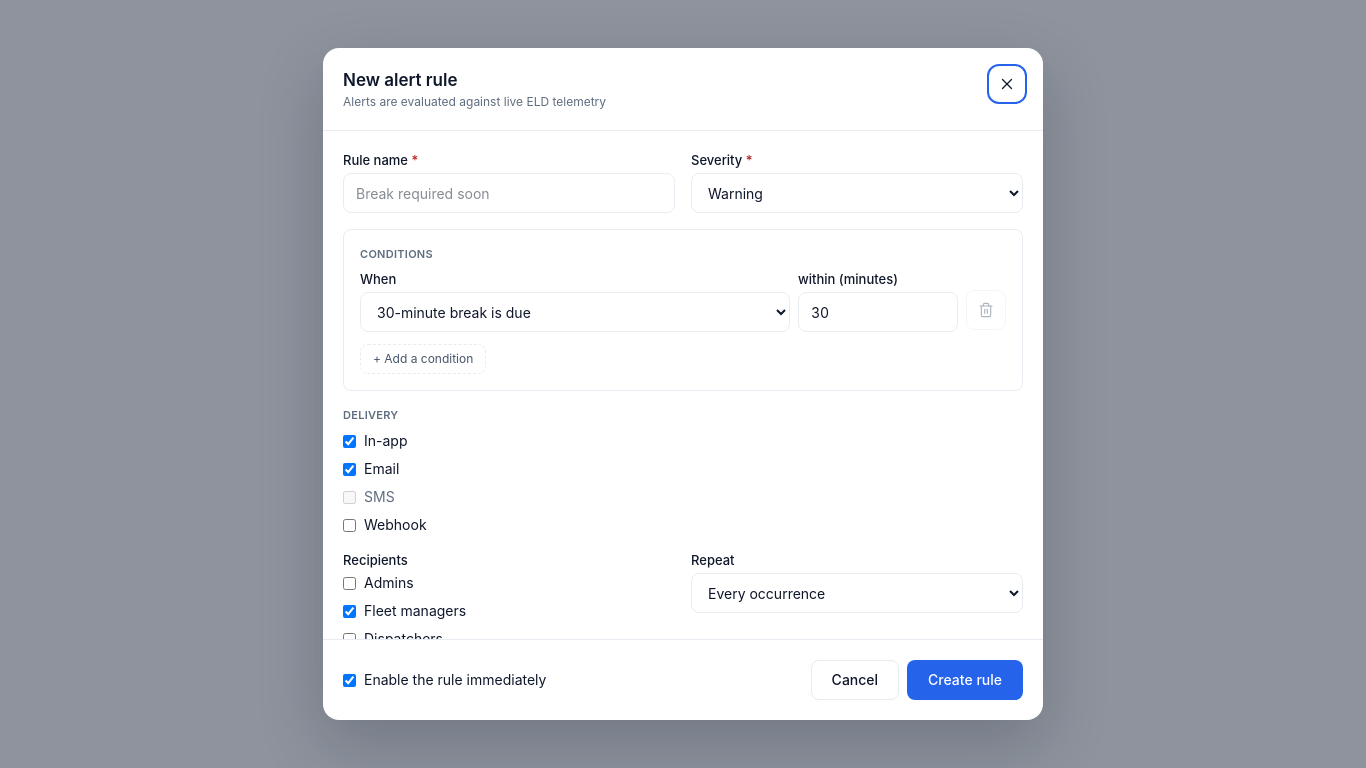
NewAlertRuleModal — Q-2 SMS › shows an error toast when the create request fails
Type "Speeding" into the field with placeholder "Break required soon".
click(509, 193); type("Speeding")  # box x1=343 y1=173 x2=675 y2=213
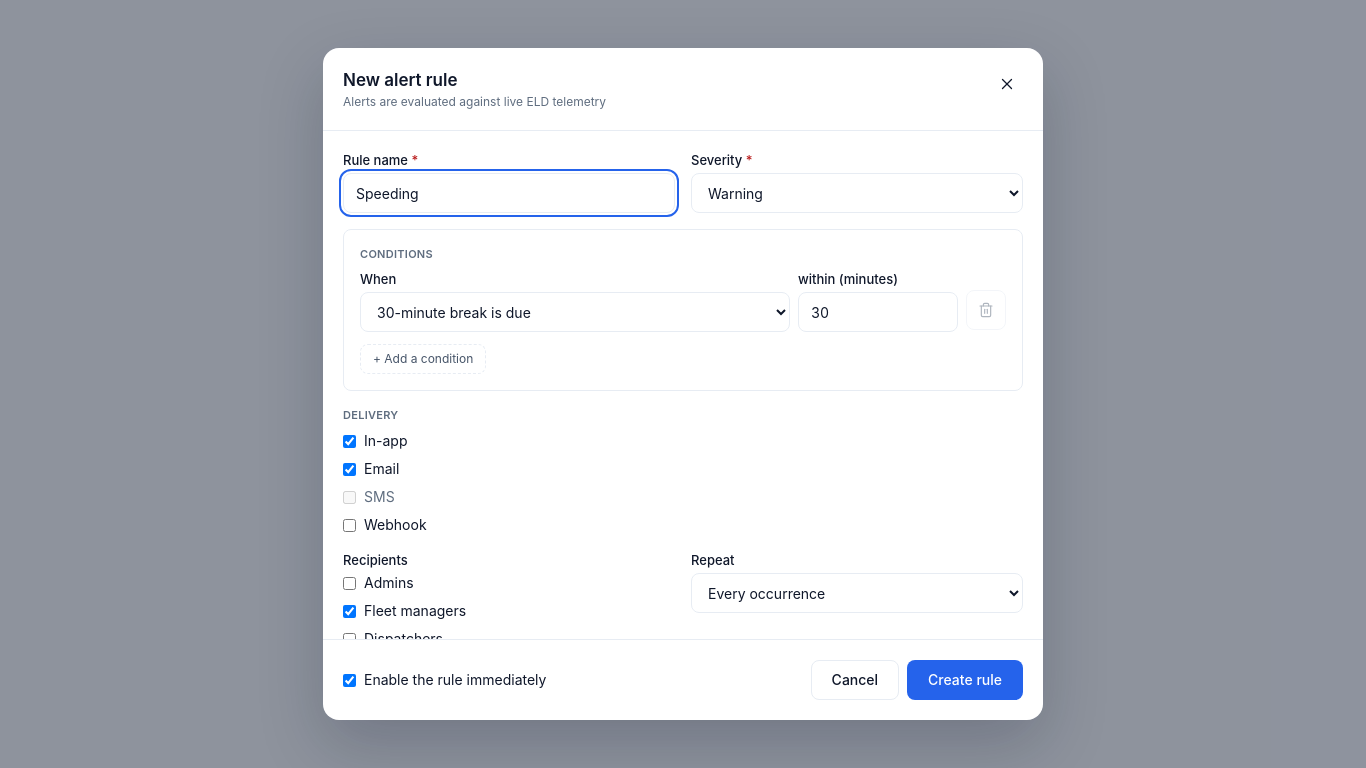
Click the button "Create rule".
click(965, 680)  # box x1=907 y1=660 x2=1023 y2=700
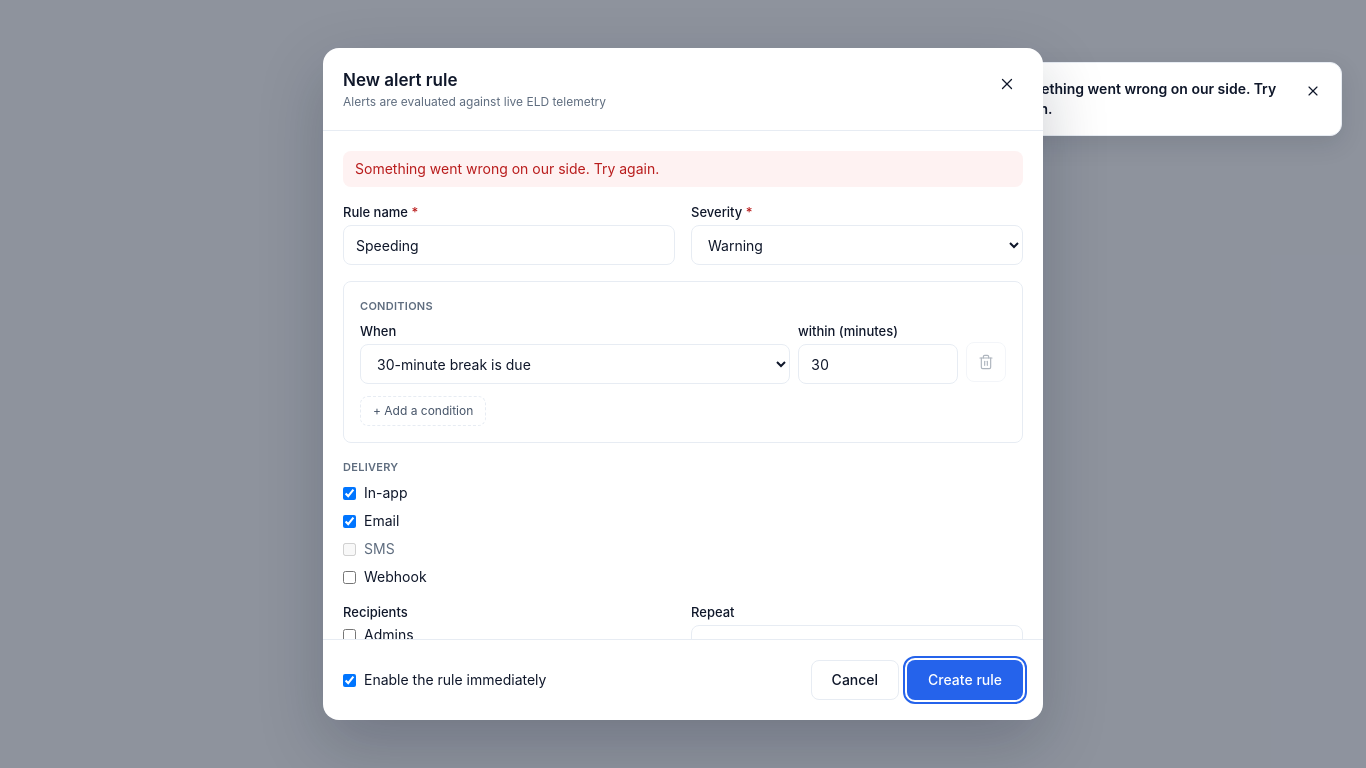
Now the text "Something went wrong on our side. Try again." is shown 2 times, box x1=1011 y1=79 x2=1289 y2=119; x1=343 y1=151 x2=1023 y2=187
